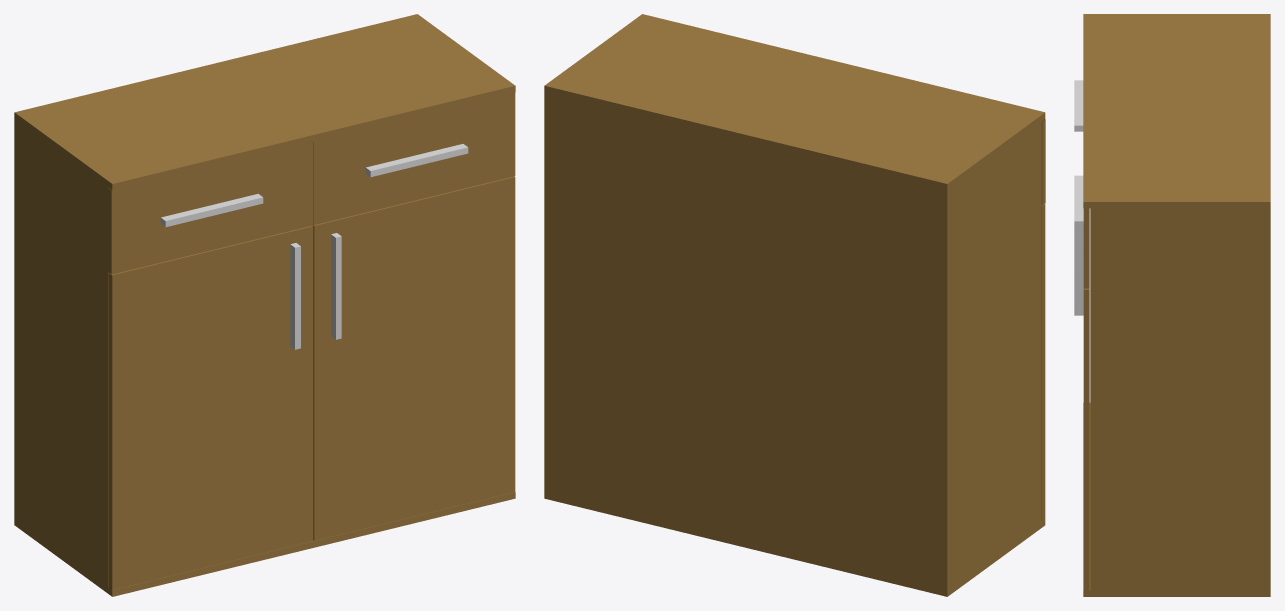
The model's file is kommode.glb.
3 renders of one model, left to right at view 1: azimuth 30°, elevation 25°; view 2: azimuth 150°, elevation 25°; view 3: azimuth 270°, elevation 25°, orthographic. The views are drawn at different scales.
Parts seen in each view (by area): view 1: Mesh5_Group3_Model, Mesh27_Komponente_2_2_Model, Mesh12_Komponente_2_1_Model, Mesh22_Komponente_1_2_Model, Mesh7_Komponente_1_1_Model; view 2: Mesh5_Group3_Model, Mesh27_Komponente_2_2_Model; view 3: Mesh5_Group3_Model, Mesh12_Komponente_2_1_Model, Mesh7_Komponente_1_1_Model, Mesh22_Komponente_1_2_Model.
Boxes of the visible parts, left/top/right/bottom form: Mesh5_Group3_Model: left=14, top=14, right=515, bottom=596; Mesh27_Komponente_2_2_Model: left=109, top=225, right=313, bottom=589; Mesh12_Komponente_2_1_Model: left=313, top=176, right=515, bottom=540; Mesh22_Komponente_1_2_Model: left=108, top=142, right=313, bottom=274; Mesh7_Komponente_1_1_Model: left=313, top=92, right=515, bottom=224; Mesh5_Group3_Model: left=544, top=14, right=1045, bottom=596; Mesh27_Komponente_2_2_Model: left=1041, top=204, right=1045, bottom=520; Mesh5_Group3_Model: left=1083, top=14, right=1270, bottom=596; Mesh12_Komponente_2_1_Model: left=1074, top=227, right=1090, bottom=590; Mesh7_Komponente_1_1_Model: left=1074, top=175, right=1089, bottom=288; Mesh22_Komponente_1_2_Model: left=1074, top=80, right=1083, bottom=131.
Bounding box in the file's own units: 0.951 × 0.93 × 0.419.
